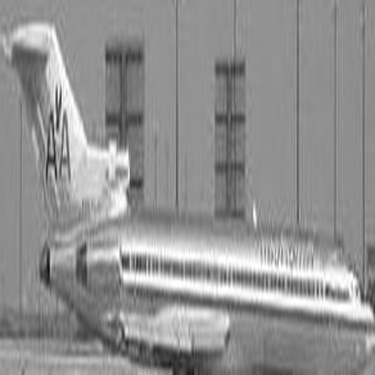airplane: (6, 6, 371, 372)
